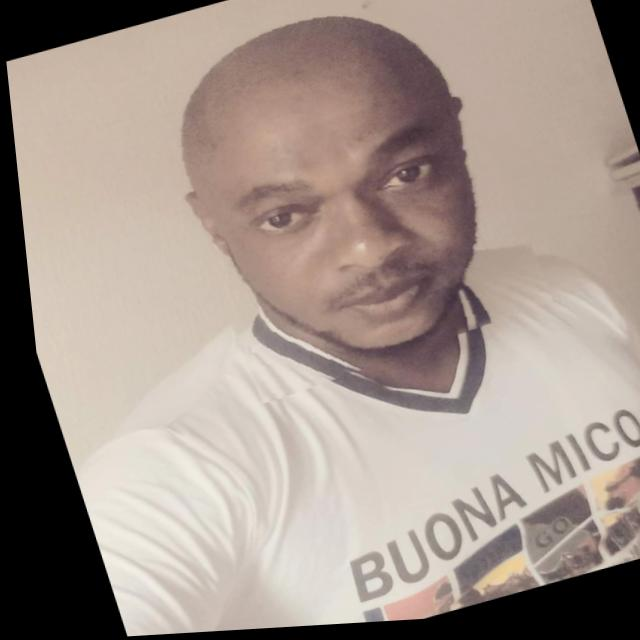sad: (125, 0, 550, 409)
